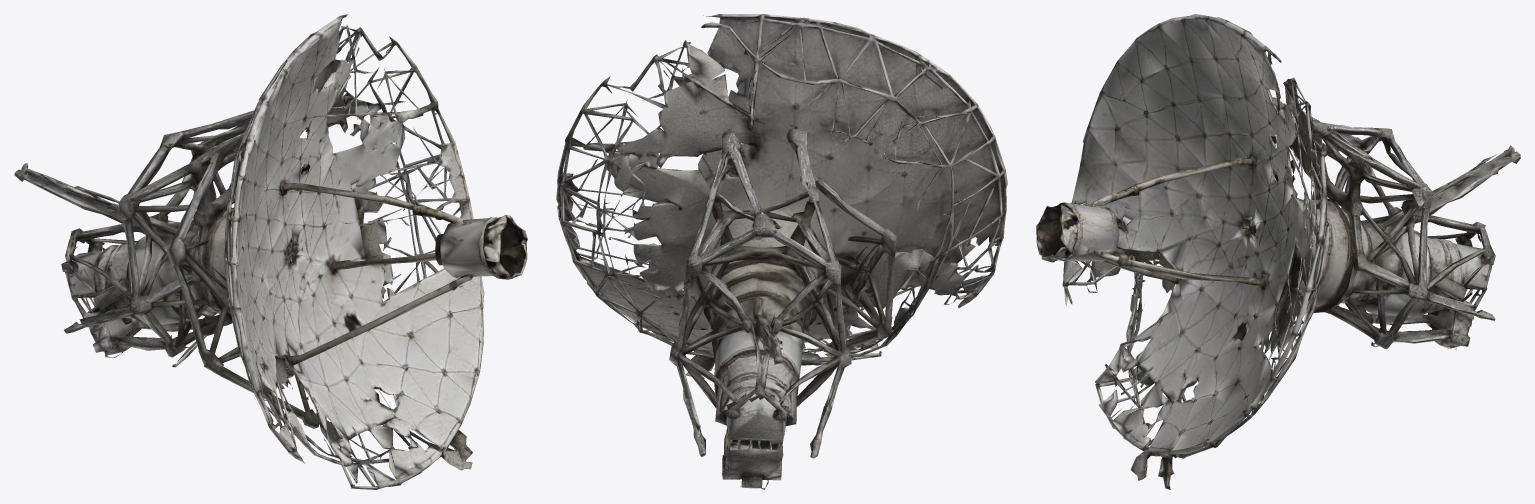
The model's file is debris-dish.glb.
3 renders of one model, left to right at view 1: azimuth 30°, elevation 25°; view 2: azimuth 150°, elevation 25°; view 3: azimuth 270°, elevation 25°, orthographic. The views are drawn at different scales.
Visible parts, largest first — view 1: tripo_node_d3c2f853-4464-4fb6-a35a-39d6f5e718e1; view 2: tripo_node_d3c2f853-4464-4fb6-a35a-39d6f5e718e1; view 3: tripo_node_d3c2f853-4464-4fb6-a35a-39d6f5e718e1.
Boxes of the visible parts, x1,y1,x2,y2 form: tripo_node_d3c2f853-4464-4fb6-a35a-39d6f5e718e1: [14, 14, 527, 489]; tripo_node_d3c2f853-4464-4fb6-a35a-39d6f5e718e1: [556, 14, 1007, 489]; tripo_node_d3c2f853-4464-4fb6-a35a-39d6f5e718e1: [1036, 14, 1520, 489].
Size of the model in its own units: 0.7831 by 0.9236 by 0.9971.
Materials: 1 (1 with a texture image).
